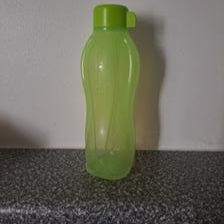bottle: (78, 3, 143, 183)
